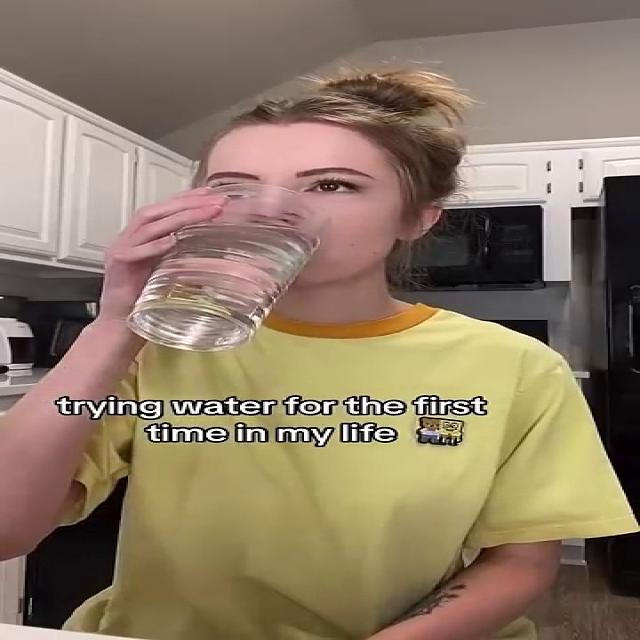Cup: (124, 182, 332, 352)
Hand: (93, 185, 243, 317)
Mouth: (244, 232, 324, 251)
